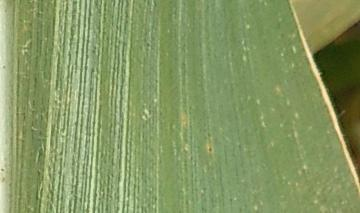tarspot: (207, 145, 212, 153), (145, 41, 151, 47), (1, 167, 6, 174)
